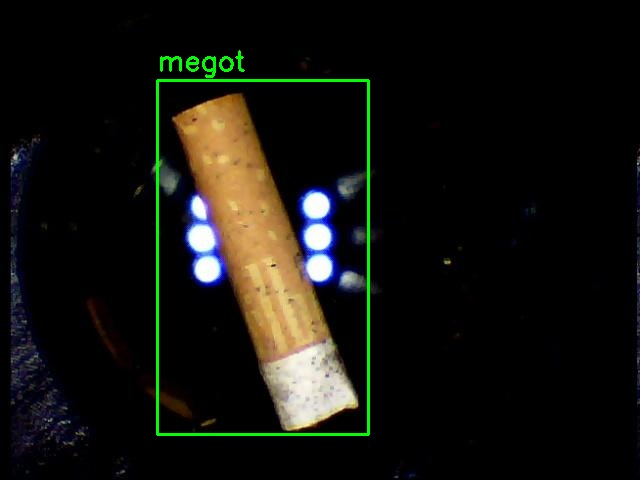megot: (157, 80, 368, 434)
